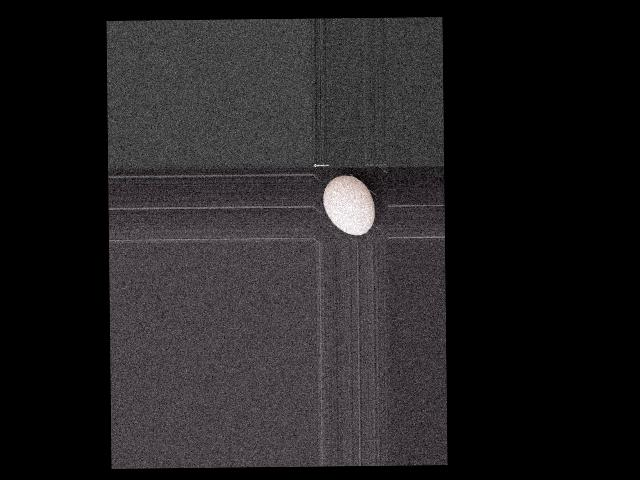egg: (323, 174, 375, 235)
